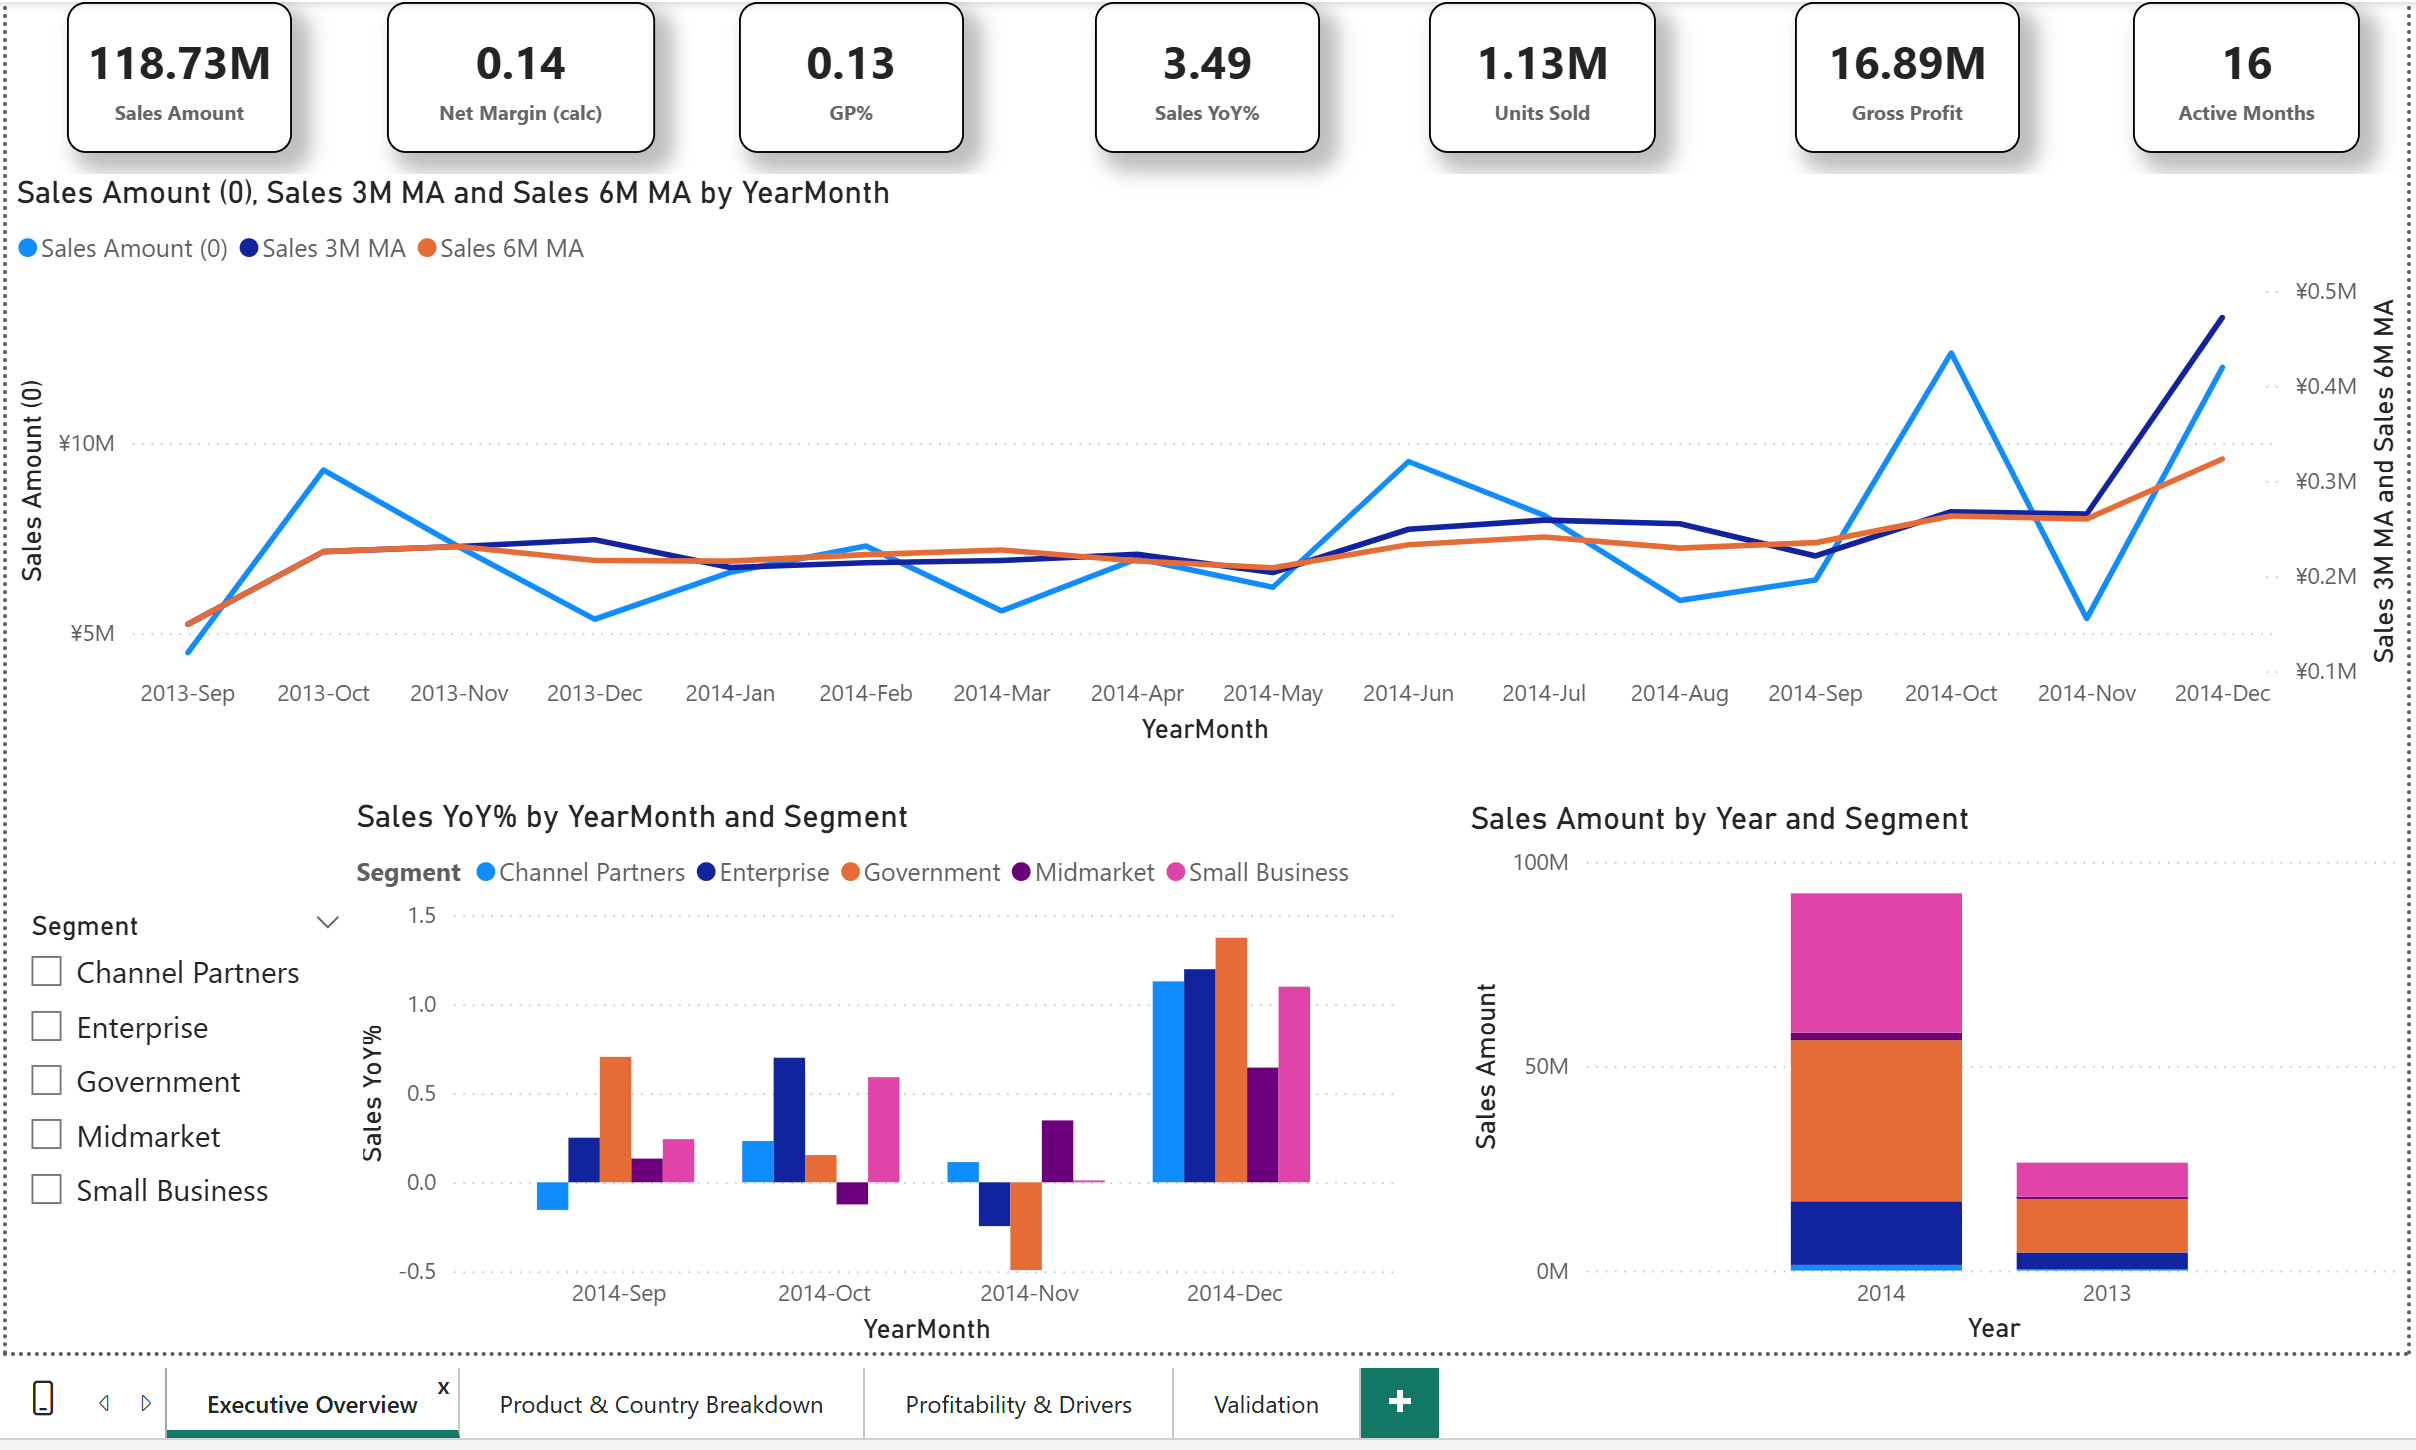

Layout of this report page (visuals, bound fields, positions):
{"tool":"powerbi","page":{"name":"Executive Overview","canvas":[1280,720],"ordinal":0},"visuals":[{"type":"card","fields":{"Values":["MeasuresTable.Sales Amount"]},"box":[31.9,0,119.8,80.3],"z":0},{"type":"card","fields":{"Values":["MeasuresTable.Net Margin (calc)"]},"box":[202.7,0,142.8,80.3],"z":1000},{"type":"card","fields":{"Values":["MeasuresTable.GP%"]},"box":[390.1,0,119.8,80.3],"z":2000},{"type":"card","fields":{"Values":["MeasuresTable.Gross Profit"]},"box":[953.6,0,119.8,80.3],"z":3000},{"type":"card","fields":{"Values":["MeasuresTable.Units Sold"]},"box":[758.6,0,121.1,80.3],"z":4000},{"type":"columnChart","fields":{"Y":["MeasuresTable.Sales Amount"],"Category":["Calendar.Year"],"Series":["DIM-segment.Segment"]},"box":[775.1,425.8,506.1,294.5],"z":7000},{"type":"card","fields":{"Values":["MeasuresTable.Active Months"]},"box":[1133.4,0,121.1,80.3],"z":12000},{"type":"lineChart","fields":{"Category":["Calendar.YearMonth"],"Y":["MeasuresTable.Sales Amount (0)"],"Y2":["MeasuresTable.Sales 3M MA","MeasuresTable.Sales 6M MA"]},"box":[0,91.8,1280,308.5],"z":13000},{"type":"clusteredColumnChart","fields":{"Y":["MeasuresTable.Sales YoY%"],"Category":["Calendar.YearMonth"],"Series":["DIM-segment.Segment"]},"box":[181,424.5,566.1,295.8],"z":13001},{"type":"slicer","fields":{"Values":["DIM-segment.Segment"]},"box":[0,479.4,190,218],"z":13002},{"type":"card","fields":{"Values":["MeasuresTable.Sales YoY%"]},"box":[580.1,0,119.8,80.3],"z":13003}]}

Visuals, with their boxes on the page's 1280x720 design canvas (x1, y1, x2, y2). These are canvas units, not pixel positions in the 2416x1450 screenshot, which may show the page scaled, cropped or inside an application window:
card - MeasuresTable.Sales Amount: select_region(32, 0, 152, 80)
card - MeasuresTable.Net Margin (calc): select_region(203, 0, 346, 80)
card - MeasuresTable.GP%: select_region(390, 0, 510, 80)
card - MeasuresTable.Gross Profit: select_region(954, 0, 1073, 80)
card - MeasuresTable.Units Sold: select_region(759, 0, 880, 80)
columnChart - MeasuresTable.Sales Amount x Calendar.Year: select_region(775, 426, 1281, 720)
card - MeasuresTable.Active Months: select_region(1133, 0, 1254, 80)
lineChart - Calendar.YearMonth x MeasuresTable.Sales Amount (0): select_region(0, 92, 1280, 400)
clusteredColumnChart - MeasuresTable.Sales YoY% x Calendar.YearMonth: select_region(181, 424, 747, 720)
slicer - DIM-segment.Segment: select_region(0, 479, 190, 697)
card - MeasuresTable.Sales YoY%: select_region(580, 0, 700, 80)
